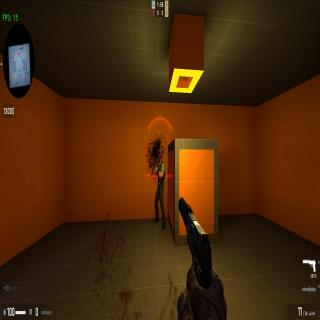T-Body: (154, 152, 166, 230)
T-Head: (158, 152, 160, 164)
